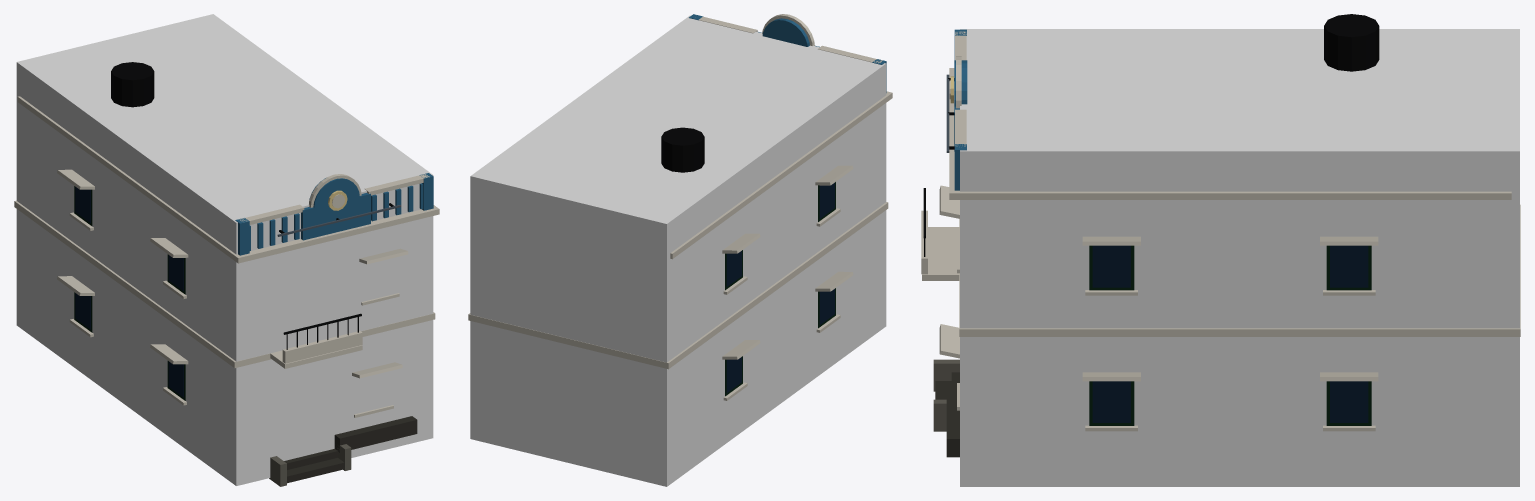
The model's file is K04_north_lane_house.glb.
3 views of the same model, side by side, from view 1: azimuth 30°, elevation 25°; view 2: azimuth 150°, elevation 25°; view 3: azimuth 270°, elevation 25° (orthographic). The views are drawn at different scales.
Parts seen in each view (by area): view 1: COL_Main, LOD0; view 2: COL_Main, LOD0; view 3: COL_Main, LOD0.
Part boxes in pixels (left/top/right/bottom): COL_Main: left=16, top=14, right=433, bottom=485; LOD0: left=14, top=62, right=439, bottom=486; COL_Main: left=470, top=15, right=886, bottom=486; LOD0: left=468, top=14, right=892, bottom=400; COL_Main: left=960, top=29, right=1519, bottom=486; LOD0: left=921, top=14, right=1520, bottom=457.
Size of what is drawn, in the model's own units: 7.05 by 8.64 by 12.62.
